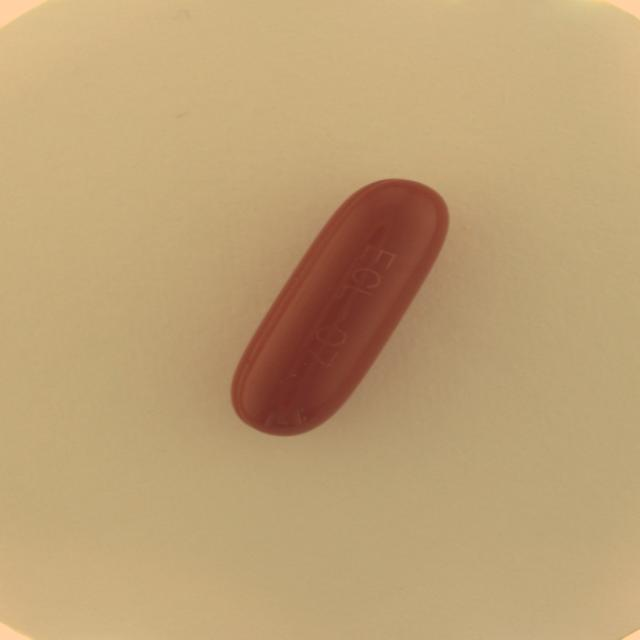Oval: (228, 176, 449, 442)
